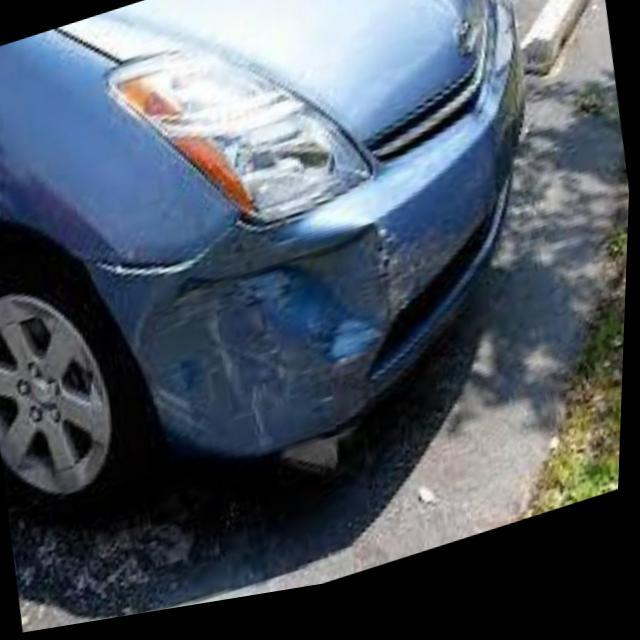dent: (121, 227, 426, 456)
